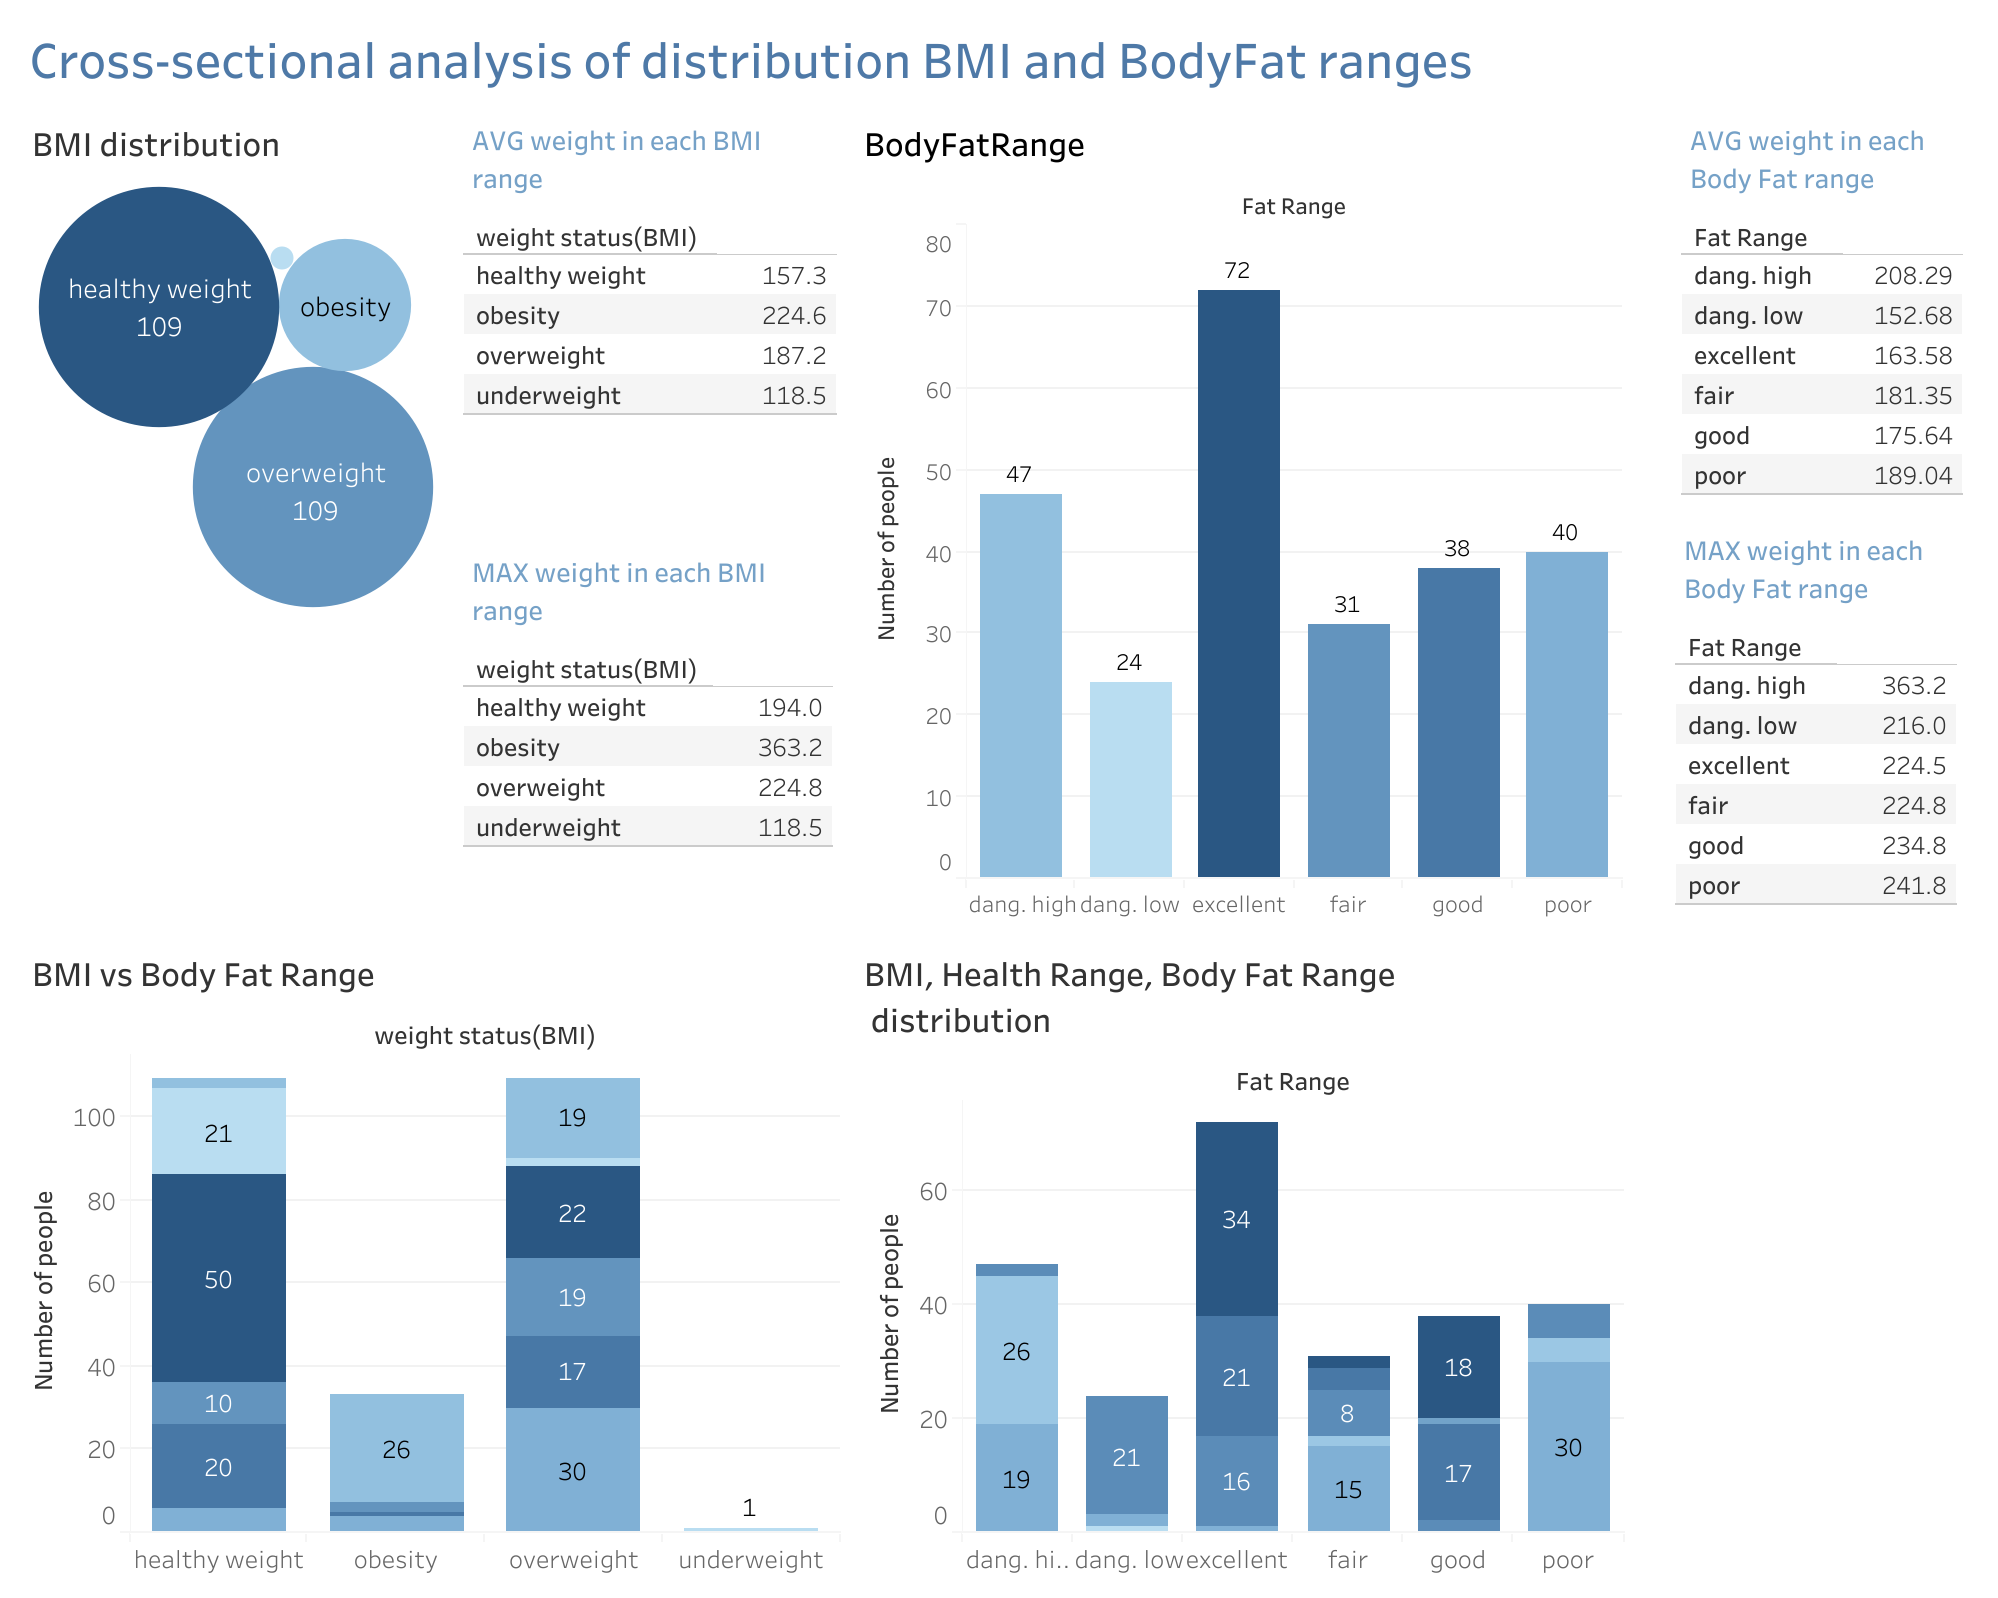

This screenshot's page, from the dashboard's own definition file:
{"tool":"tableau","page":{"name":"Dashboard 1","canvas":[1000,800],"ordinal":0},"visuals":[{"type":"title","box":[8,8,984,56]},{"type":"worksheet","title":"BMI status _circl","mark":"Circle","box":[8,64,343,364]},{"type":"worksheet","title":"Fat_Range","mark":"Bar","rows":["ID"],"cols":["fat_range"],"box":[351,64,494,364.5]},{"type":"legend","title":"BMI status _circl","param":"[federated.089i3ar148lxfm1dp955m0cld75e].[none:weight_status(BMI):nk]","box":[849,240,140,98]},{"type":"legend","title":"Fat_Range","param":"[federated.089i3ar148lxfm1dp955m0cld75e].[none:fat_range:nk]","box":[852,406,140,98]},{"type":"worksheet","title":"BF tange_BMI status","mark":"Automatic","rows":["ID"],"cols":["weight_status(BMI)"],"box":[8,428,343,364]},{"type":"worksheet","title":"Fat_range vs Health Range","mark":"Automatic","rows":["ID"],"cols":["fat_range"],"box":[351,428.5,494,363.5]},{"type":"legend","title":"Fat_range vs Health Range","param":"[federated.089i3ar148lxfm1dp955m0cld75e].[none:health_range:nk]\n[federated.089i3","box":[854,548,141,218]}]}

Visuals, with their boxes in screenshot pixels (x1, y1, x2, y2), scaled from the page's 1000x800 canvas onto the 1998x1598 screenshot:
title: l=16, t=16, r=1982, b=128
"BMI status _circl" worksheet (Circle marks): l=16, t=128, r=701, b=855
"Fat_Range" worksheet (Bar marks): l=701, t=128, r=1688, b=856
"BMI status _circl" legend: l=1696, t=479, r=1976, b=675
"Fat_Range" legend: l=1702, t=811, r=1982, b=1007
"BF tange_BMI status" worksheet: l=16, t=855, r=701, b=1582
"Fat_range vs Health Range" worksheet: l=701, t=856, r=1688, b=1582
"Fat_range vs Health Range" legend: l=1706, t=1095, r=1988, b=1530
